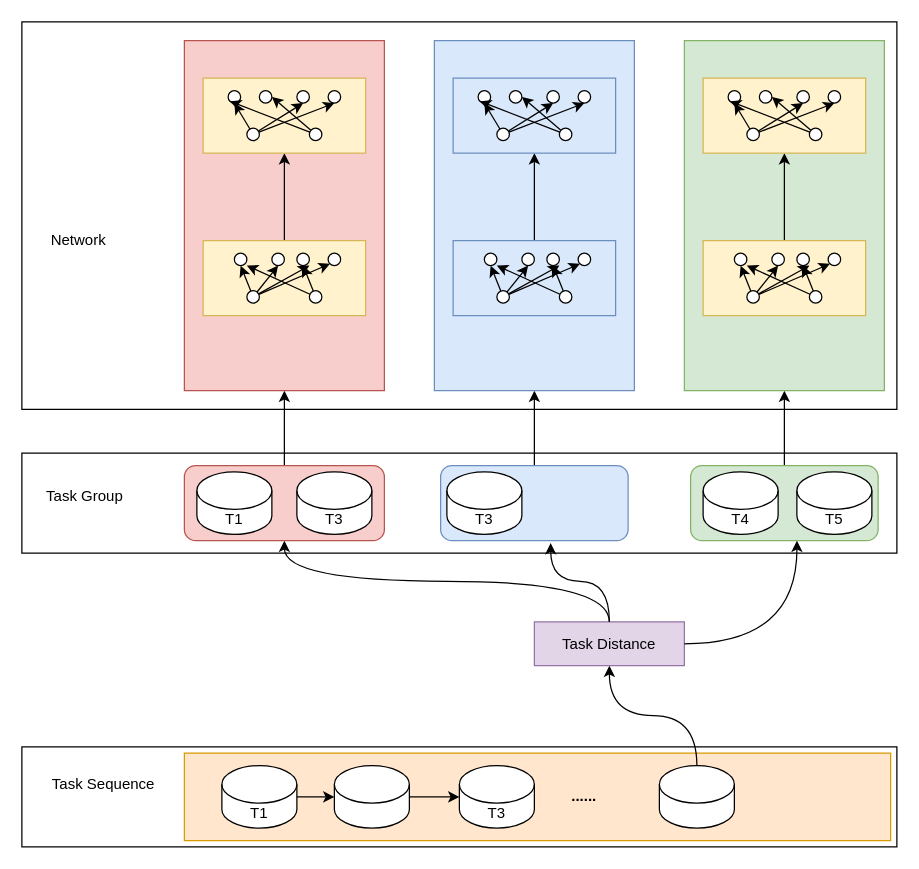
This 919x869 diagram has some shape labels left out. Here are the shapes that lost their labels. From the top down, the centre of each, then its label:
At (371,796): "T2".
At (696,796): "T6".
